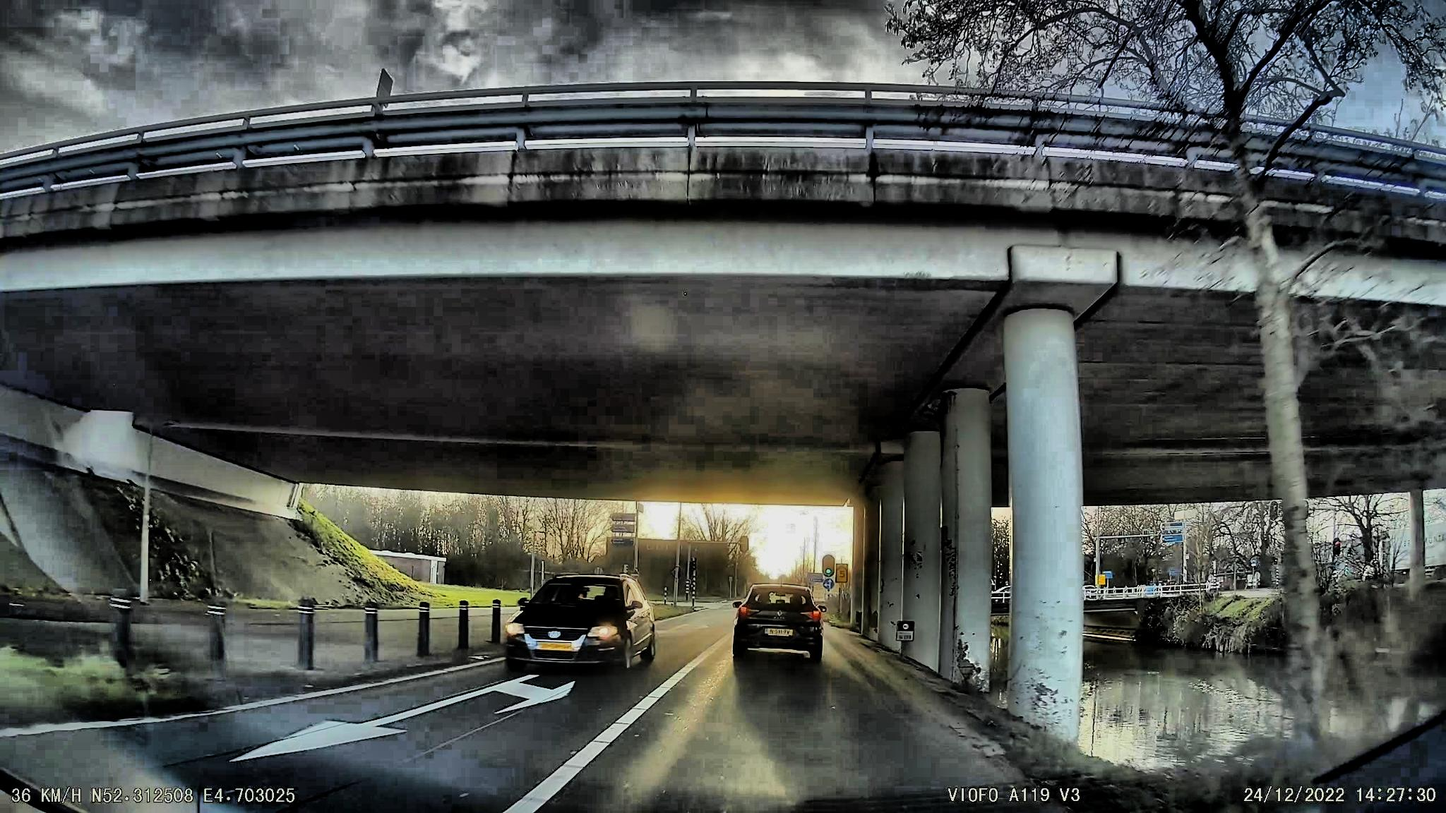Roads: (0, 611, 1161, 813)
